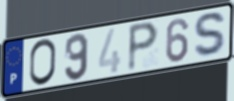4: (97, 27, 123, 75)
6: (164, 17, 191, 64)
9: (63, 32, 90, 83)
O: (28, 38, 58, 88)
P: (126, 20, 161, 74)
S: (193, 11, 229, 60)
